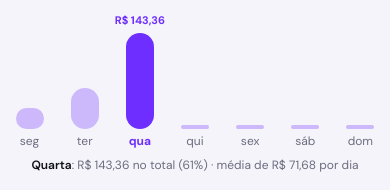
Quando eu gasto: tocar numa barra mostra o valor daquele dia › tocar em outra barra troca o valor mostrado; sem gasto diz isso
Click the button with aria-label "terça:".
click(85, 80)  # box [59,12,110,148]
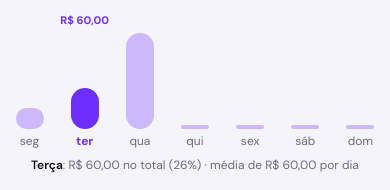
Result: the element with test id "weekday-detail" reads "Terça: R$ 60,00 no total (26%) · média de R$ 60,00 por dia" at [31,156,359,172]
Click the button with aria-label "sábado: sem gastos".
click(305, 80)  # box [280,12,331,148]
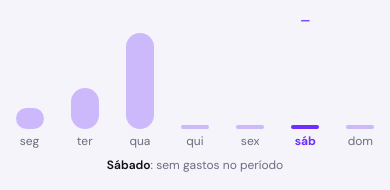
Result: the element with test id "weekday-detail" reads "Sábado: sem gastos no período" at [107,156,283,172]
